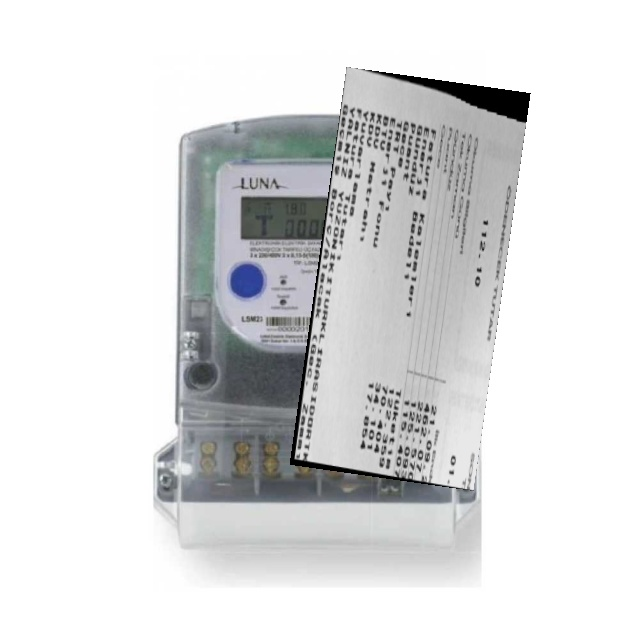electricity-bill: (289, 66, 531, 490)
